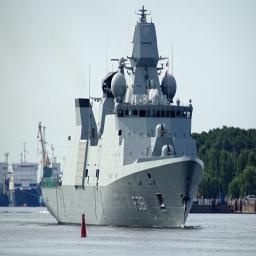Fragata: (38, 3, 207, 233)
